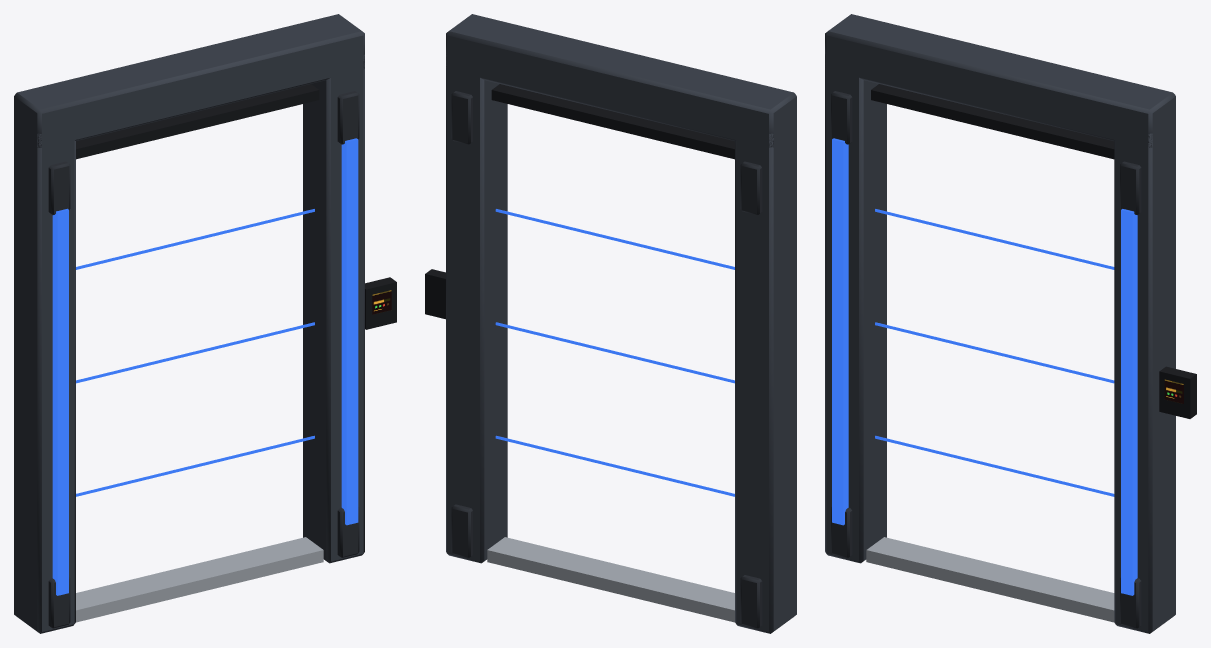
Rendered from cell_door_forcefield.glb.
3 renders of one model, left to right at view 1: azimuth 30°, elevation 25°; view 2: azimuth 150°, elevation 25°; view 3: azimuth 330°, elevation 25°, orthographic.
Visible parts, largest first — view 1: cell_door_forcefield; view 2: cell_door_forcefield; view 3: cell_door_forcefield.
Boxes of the visible parts, x1,y1,x2,y2 form: cell_door_forcefield: (14, 14, 396, 633); cell_door_forcefield: (425, 14, 796, 633); cell_door_forcefield: (825, 14, 1196, 633).
Bounding box in the file's own units: 1.88 × 2.6 × 0.315.
Materials: 6 (1 with a texture image).
